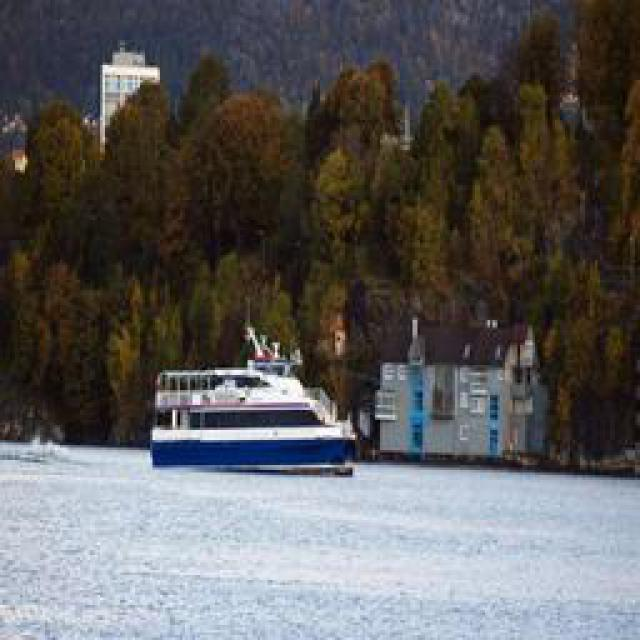Ship: (150, 360, 353, 475)
